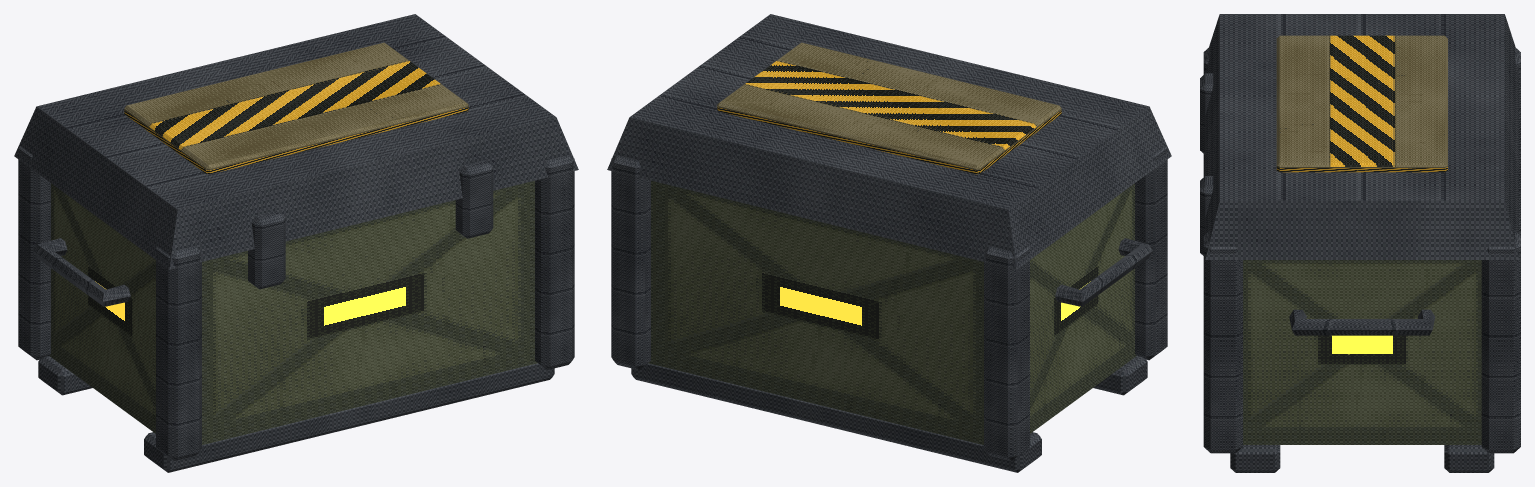
File: ammo_crate.glb
3 views of the same model, side by side, from view 1: azimuth 30°, elevation 25°; view 2: azimuth 150°, elevation 25°; view 3: azimuth 270°, elevation 25° (orthographic).
Visible parts, largest first — view 1: ammo_crate__mil_dark_steel, ammo_crate__mil_crate_panel, ammo_crate__mil_hazard_trim; view 2: ammo_crate__mil_dark_steel, ammo_crate__mil_crate_panel, ammo_crate__mil_hazard_trim; view 3: ammo_crate__mil_dark_steel, ammo_crate__mil_crate_panel, ammo_crate__mil_hazard_trim.
Part boxes in pixels (<box>): ammo_crate__mil_dark_steel: <box>14,14,578,472</box>; ammo_crate__mil_crate_panel: <box>49,180,537,444</box>; ammo_crate__mil_hazard_trim: <box>124,42,468,174</box>; ammo_crate__mil_dark_steel: <box>607,14,1171,472</box>; ammo_crate__mil_crate_panel: <box>648,180,1136,444</box>; ammo_crate__mil_hazard_trim: <box>717,42,1061,174</box>; ammo_crate__mil_dark_steel: <box>1200,14,1520,472</box>; ammo_crate__mil_crate_panel: <box>1243,260,1481,444</box>; ammo_crate__mil_hazard_trim: <box>1276,35,1447,172</box>.
Size of the model in its own units: 1.5 by 0.865 by 0.9.
3 materials, 3 textured.
